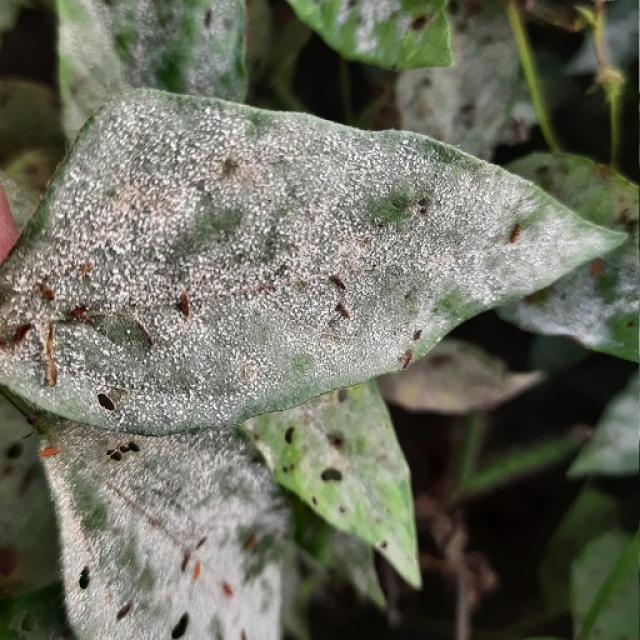Blackgram: (0, 90, 626, 435)
Powdery_Mildew: (17, 94, 572, 323), (243, 204, 434, 366), (228, 125, 419, 251), (171, 184, 326, 294), (102, 118, 245, 227), (106, 441, 246, 552), (368, 169, 502, 267), (434, 200, 556, 298), (136, 311, 268, 397), (94, 125, 222, 211), (499, 200, 621, 286), (436, 18, 521, 133), (89, 172, 200, 259), (402, 39, 478, 147), (526, 268, 629, 345), (106, 390, 226, 434), (117, 0, 175, 73), (339, 0, 409, 56), (126, 329, 132, 335)
